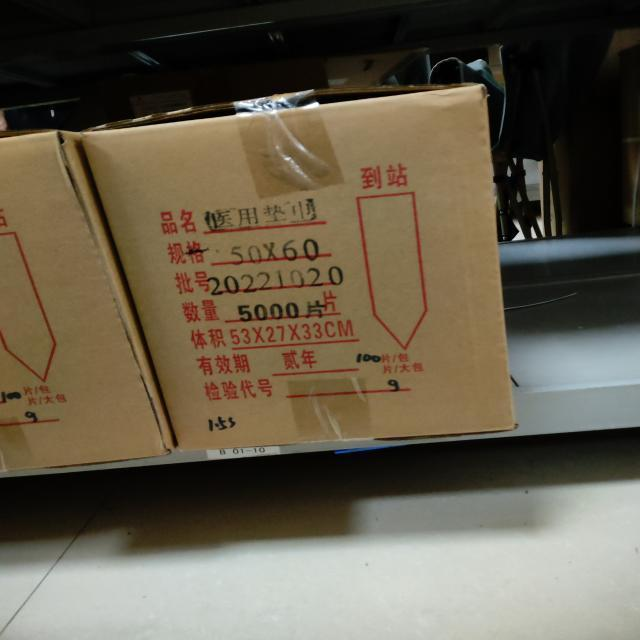box: (84, 86, 516, 442), (0, 129, 174, 475)
